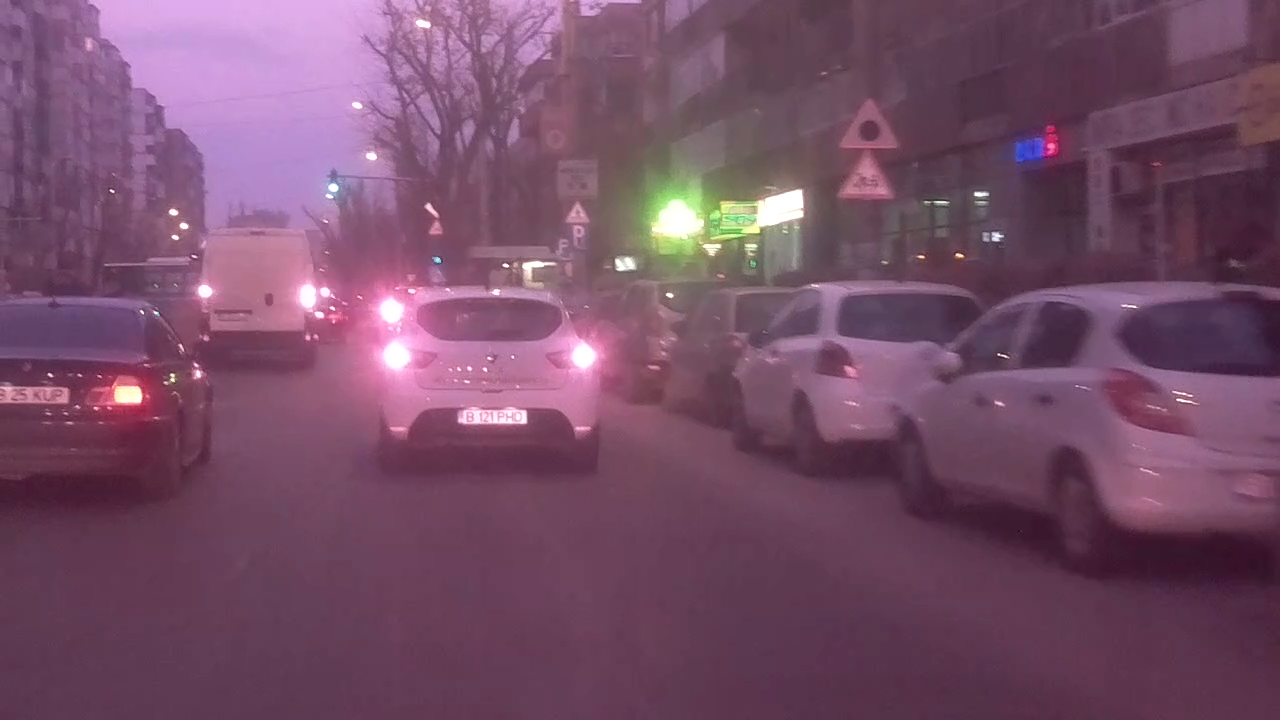license-plate: (456, 408, 528, 425)
